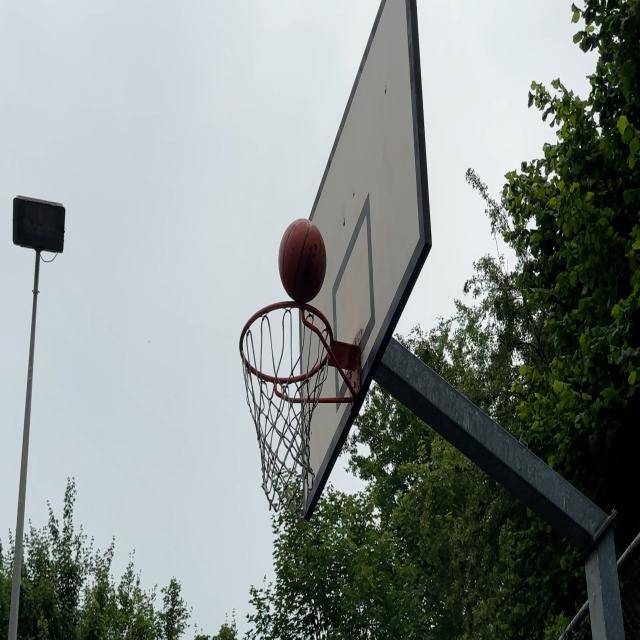rebound_hit: (278, 218, 326, 312)
